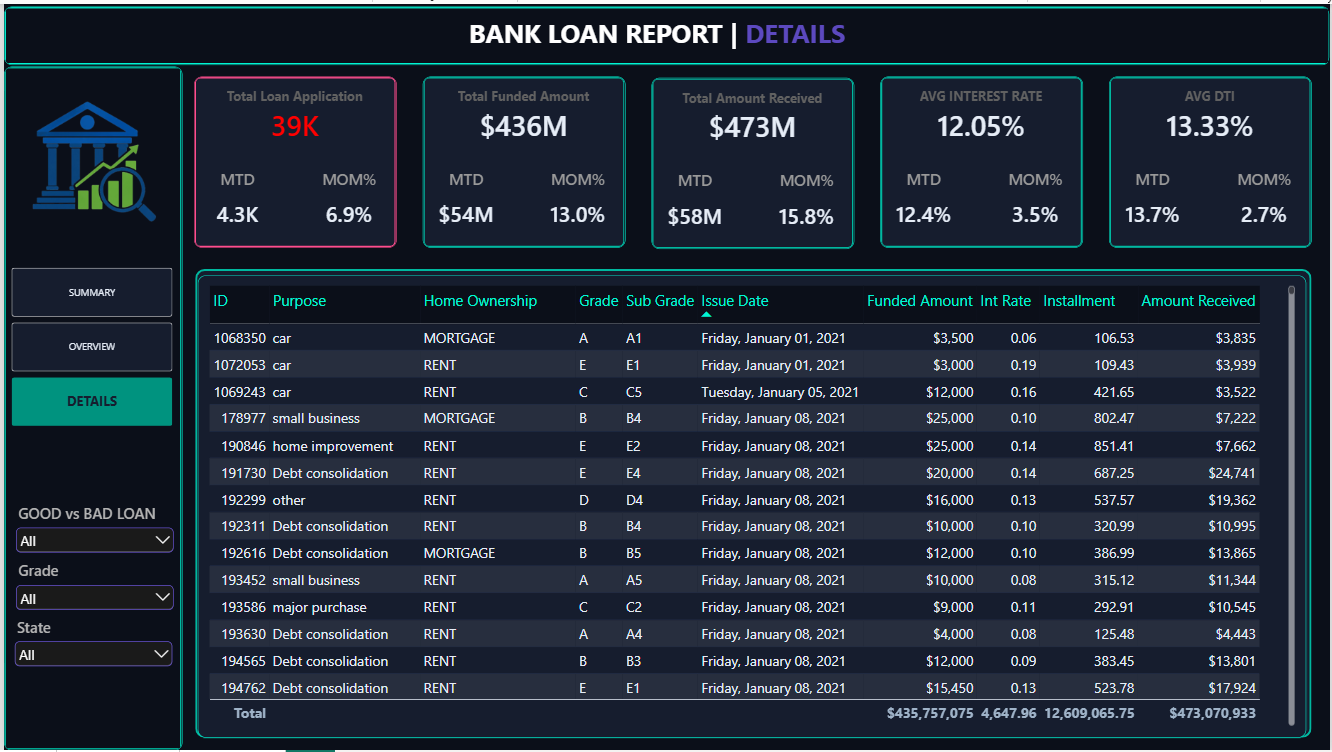

Layout of this report page (visuals, bound fields, positions):
{"tool":"powerbi","page":{"name":"DETAILS","canvas":[1920,1080],"ordinal":2},"visuals":[{"type":"group","id":"g1","title":"Group 4","box":[0,90,258,990],"z":0},{"type":"shape","box":[0,90,258,990],"z":0,"group":"g1"},{"type":"shape","box":[0,4,1920,85],"z":1000},{"type":"textbox","box":[673.3,16.7,623.3,51.7],"z":2000},{"type":"shape","box":[275,105,293.3,248.3],"z":3000,"group":"g2"},{"type":"group","id":"g2","title":"Group 1","box":[275,105,293.3,248.3],"z":3000},{"type":"shape","box":[606.2,105,293.3,248.3],"z":3000,"group":"g3"},{"type":"shape","box":[1268.8,105,293.3,248.3],"z":3000,"group":"g5"},{"type":"shape","box":[1600,105,293.3,248.3],"z":3000,"group":"g6"},{"type":"shape","box":[937.5,106.7,293.3,248.3],"z":3000,"group":"g4"},{"type":"group","id":"g3","title":"Group 1","box":[606.2,105,293.3,248.3],"z":4000},{"type":"group","id":"g4","title":"Group 1","box":[937.5,106.7,293.3,248.3],"z":5000},{"type":"cardVisual","fields":{"Data":["financial_loan_table.TOTAL LOAN APPLICATION"]},"box":[280,118.3,281.7,88.3],"z":5000,"group":"g2"},{"type":"cardVisual","fields":{"Data":["financial_loan_table.Total Funded Amount"]},"box":[611.2,118.3,281.7,88.3],"z":5000,"group":"g3"},{"type":"cardVisual","fields":{"Data":["financial_loan_table.AVG INT RATE"]},"box":[1273.8,118.3,281.7,88.3],"z":5000,"group":"g5"},{"type":"cardVisual","fields":{"Data":["financial_loan_table.AVG DTI"]},"box":[1605,118.3,281.7,88.3],"z":5000,"group":"g6"},{"type":"cardVisual","fields":{"Data":["financial_loan_table.Total Amount Received"]},"box":[942.5,120,281.7,88.3],"z":5000,"group":"g4"},{"type":"group","id":"g5","title":"Group 1","box":[1268.8,105,293.3,248.3],"z":6000},{"type":"cardVisual","title":"MTD","fields":{"Data":["financial_loan_table.MTD LOAN APPLICATIONS"]},"box":[280,230,115,95],"z":6000,"group":"g2"},{"type":"cardVisual","title":"MTD","fields":{"Data":["financial_loan_table.MTD Funded Amount"]},"box":[611.2,230,115,95],"z":6000,"group":"g3"},{"type":"cardVisual","title":"MTD","fields":{"Data":["financial_loan_table.MTD AVG INT RATE"]},"box":[1273.8,230,115,95],"z":6000,"group":"g5"},{"type":"cardVisual","title":"MTD","fields":{"Data":["financial_loan_table.MTD AVG DTI"]},"box":[1605,230,115,95],"z":6000,"group":"g6"},{"type":"cardVisual","title":"MTD","fields":{"Data":["financial_loan_table.MTD Payment"]},"box":[942.5,231.7,115,95],"z":6000,"group":"g4"},{"type":"group","id":"g6","title":"Group 1","box":[1600,105,293.3,248.3],"z":7000},{"type":"cardVisual","title":"MOM%","fields":{"Data":["financial_loan_table.MoM Loan Applications"]},"box":[438.3,230,123.3,95],"z":7000,"group":"g2"},{"type":"cardVisual","title":"MOM%","fields":{"Data":["financial_loan_table.MoM Funded Amount"]},"box":[769.5,230,123.3,95],"z":7000,"group":"g3"},{"type":"cardVisual","title":"MOM%","fields":{"Data":["financial_loan_table.MoM AVG INT RATE"]},"box":[1432.1,230,123.3,95],"z":7000,"group":"g5"},{"type":"cardVisual","title":"MOM%","fields":{"Data":["financial_loan_table.MoM AVG DTI"]},"box":[1763.3,230,123.3,95],"z":7000,"group":"g6"},{"type":"cardVisual","title":"MOM%","fields":{"Data":["financial_loan_table.MoM Payment"]},"box":[1100.8,231.7,123.3,95],"z":7000,"group":"g4"},{"type":"shape","box":[276.9,383.6,1616,678.6],"z":8000,"group":"g7"},{"type":"group","id":"g7","title":"Group 2","box":[276.9,383.6,1616,678.6],"z":8000},{"type":"slicer","fields":{"Values":["financial_loan_table.GOOD vs BAD LOAN"]},"box":[13,722.8,238,82],"z":10000},{"type":"slicer","fields":{"Values":["financial_loan_table.address_state"]},"box":[10.8,887.3,238,82],"z":11000},{"type":"slicer","fields":{"Values":["financial_loan_table.grade"]},"box":[13,805.1,238,82],"z":12000},{"type":"tableEx","fields":{"Values":["financial_loan_table.id","financial_loan_table.purpose","financial_loan_table.home_ownership","financial_loan_table.grade","financial_loan_table.sub_grade","financial_loan_table.issue_date","financial_loan_table.Total Funded Amount","Sum(financial_loan_table.int_rate)","Sum(financial_loan_table.installment)","financial_loan_table.Total Amount Received"]},"box":[280.5,392.7,1605.2,669.6],"z":14001},{"type":"pageNavigator","box":[10.9,381.8,233.4,229.8],"z":14002},{"type":"image","box":[16.3,112.2,222.6,233.4],"z":14003}]}

Visuals, with their boxes in screenshot pixels (x1, y1, x2, y2), scaled from the page's 1920x1080 canvas onto the 1332x752 screenshot:
"Group 4" group: region(0, 63, 179, 751)
shape: region(0, 63, 179, 751)
shape: region(0, 3, 1331, 62)
textbox: region(467, 12, 900, 48)
shape: region(191, 73, 394, 246)
"Group 1" group: region(191, 73, 394, 246)
shape: region(421, 73, 624, 246)
shape: region(880, 73, 1084, 246)
shape: region(1110, 73, 1313, 246)
shape: region(650, 74, 854, 247)
"Group 1" group: region(421, 73, 624, 246)
"Group 1" group: region(650, 74, 854, 247)
cardVisual - financial_loan_table.TOTAL LOAN APPLICATION: region(194, 82, 390, 144)
cardVisual - financial_loan_table.Total Funded Amount: region(424, 82, 619, 144)
cardVisual - financial_loan_table.AVG INT RATE: region(884, 82, 1079, 144)
cardVisual - financial_loan_table.AVG DTI: region(1113, 82, 1309, 144)
cardVisual - financial_loan_table.Total Amount Received: region(654, 84, 849, 145)
"Group 1" group: region(880, 73, 1084, 246)
"MTD" cardVisual: region(194, 160, 274, 226)
"MTD" cardVisual: region(424, 160, 504, 226)
"MTD" cardVisual: region(884, 160, 963, 226)
"MTD" cardVisual: region(1113, 160, 1193, 226)
"MTD" cardVisual: region(654, 161, 734, 227)
"Group 1" group: region(1110, 73, 1313, 246)
"MOM%" cardVisual: region(304, 160, 390, 226)
"MOM%" cardVisual: region(534, 160, 619, 226)
"MOM%" cardVisual: region(994, 160, 1079, 226)
"MOM%" cardVisual: region(1223, 160, 1309, 226)
"MOM%" cardVisual: region(764, 161, 849, 227)
shape: region(192, 267, 1313, 740)
"Group 2" group: region(192, 267, 1313, 740)
slicer - financial_loan_table.GOOD vs BAD LOAN: region(9, 503, 174, 560)
slicer - financial_loan_table.address_state: region(7, 618, 173, 675)
slicer - financial_loan_table.grade: region(9, 561, 174, 618)
tableEx - financial_loan_table.id x financial_loan_table.purpose: region(195, 273, 1308, 740)
pageNavigator: region(8, 266, 169, 426)
image: region(11, 78, 166, 241)
